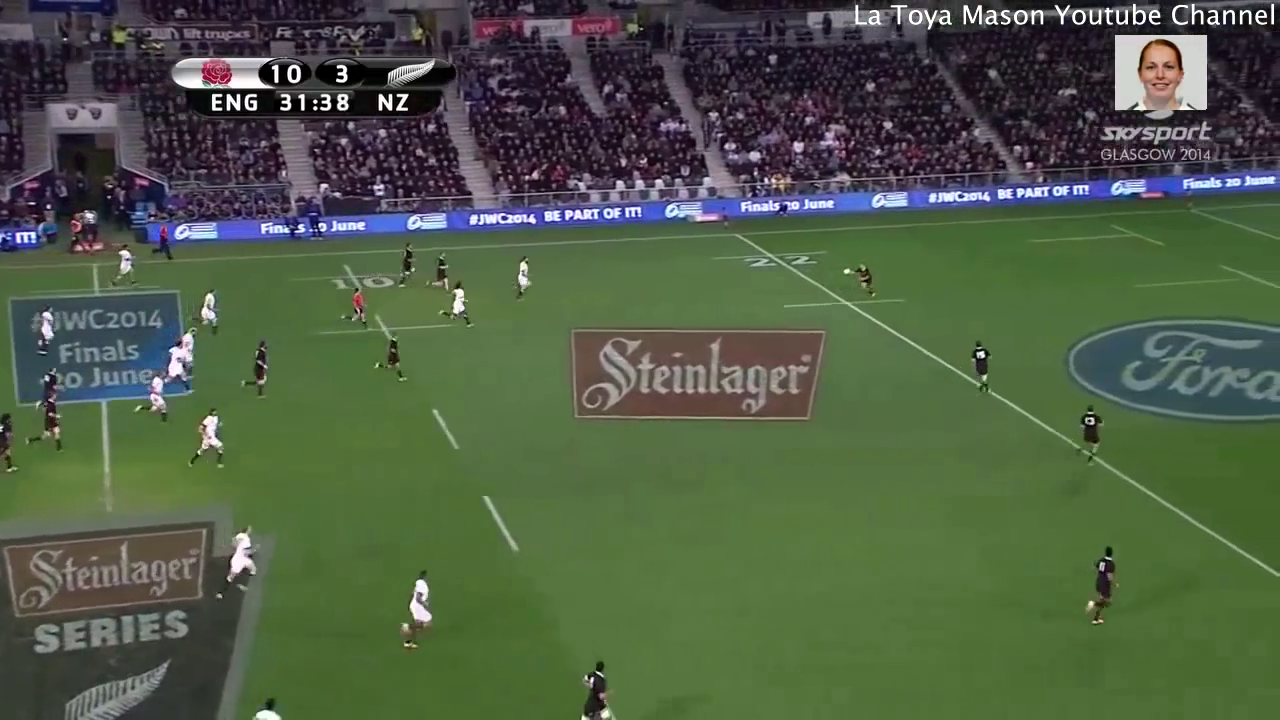10_metre: (318, 312, 465, 350), (288, 263, 432, 289)
ball: (842, 265, 852, 276)
player: (209, 523, 268, 597), (396, 563, 438, 662), (1079, 541, 1126, 627), (569, 656, 616, 720), (187, 403, 233, 466), (241, 338, 276, 404), (131, 372, 175, 423), (1072, 400, 1104, 470), (189, 289, 230, 340), (369, 330, 409, 382), (29, 396, 68, 449), (156, 339, 191, 397), (334, 284, 372, 333), (506, 250, 538, 307), (110, 242, 145, 294), (437, 279, 473, 329), (1, 406, 27, 475), (33, 302, 60, 359), (391, 239, 418, 294), (29, 359, 66, 399), (969, 335, 991, 402), (848, 256, 878, 300), (173, 321, 202, 358), (431, 250, 449, 293)
